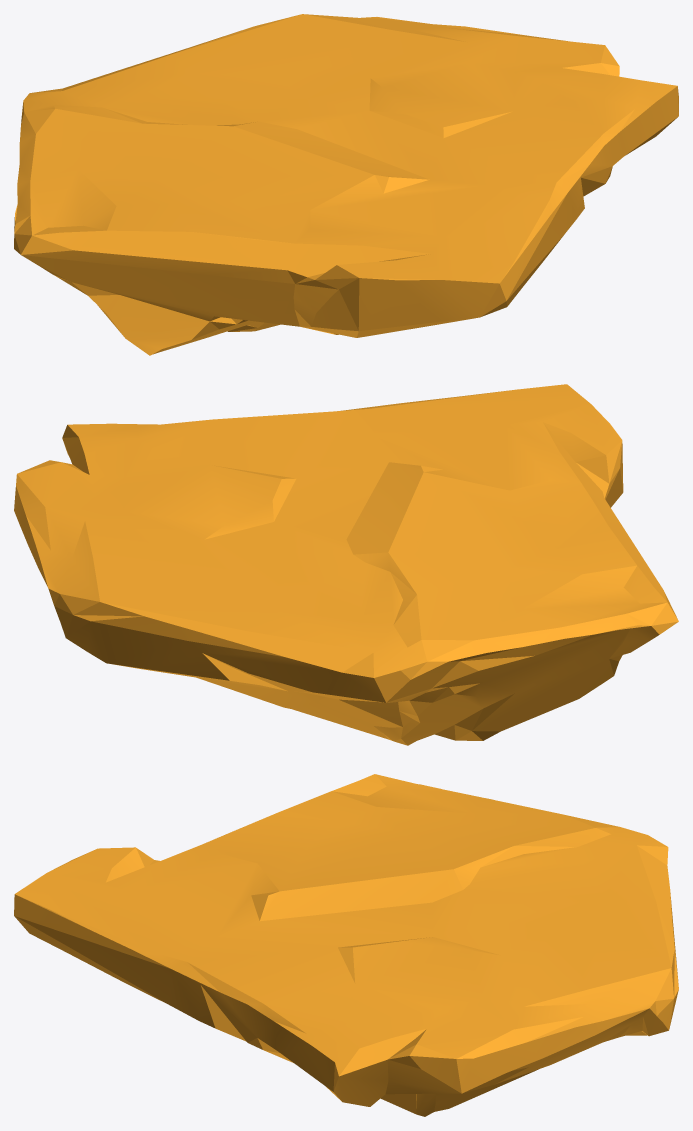
Rendered from SM_Iceberg_Small_E_Plane.fbx.
The picture shows the model from 3 angles, top to bottom: view 1: azimuth 30°, elevation 25°; view 2: azimuth 150°, elevation 25°; view 3: azimuth 270°, elevation 25°; orthographic projection.
Parts seen in each view (by area): view 1: iceberg-small-e-plane; view 2: iceberg-small-e-plane; view 3: iceberg-small-e-plane.
Boxes of the visible parts, left/top/right/bottom form: iceberg-small-e-plane: left=14, top=14, right=678, bottom=355; iceberg-small-e-plane: left=14, top=384, right=678, bottom=745; iceberg-small-e-plane: left=14, top=774, right=678, bottom=1116.
Size of the model in its own units: 10.19 by 3.08 by 9.32.
